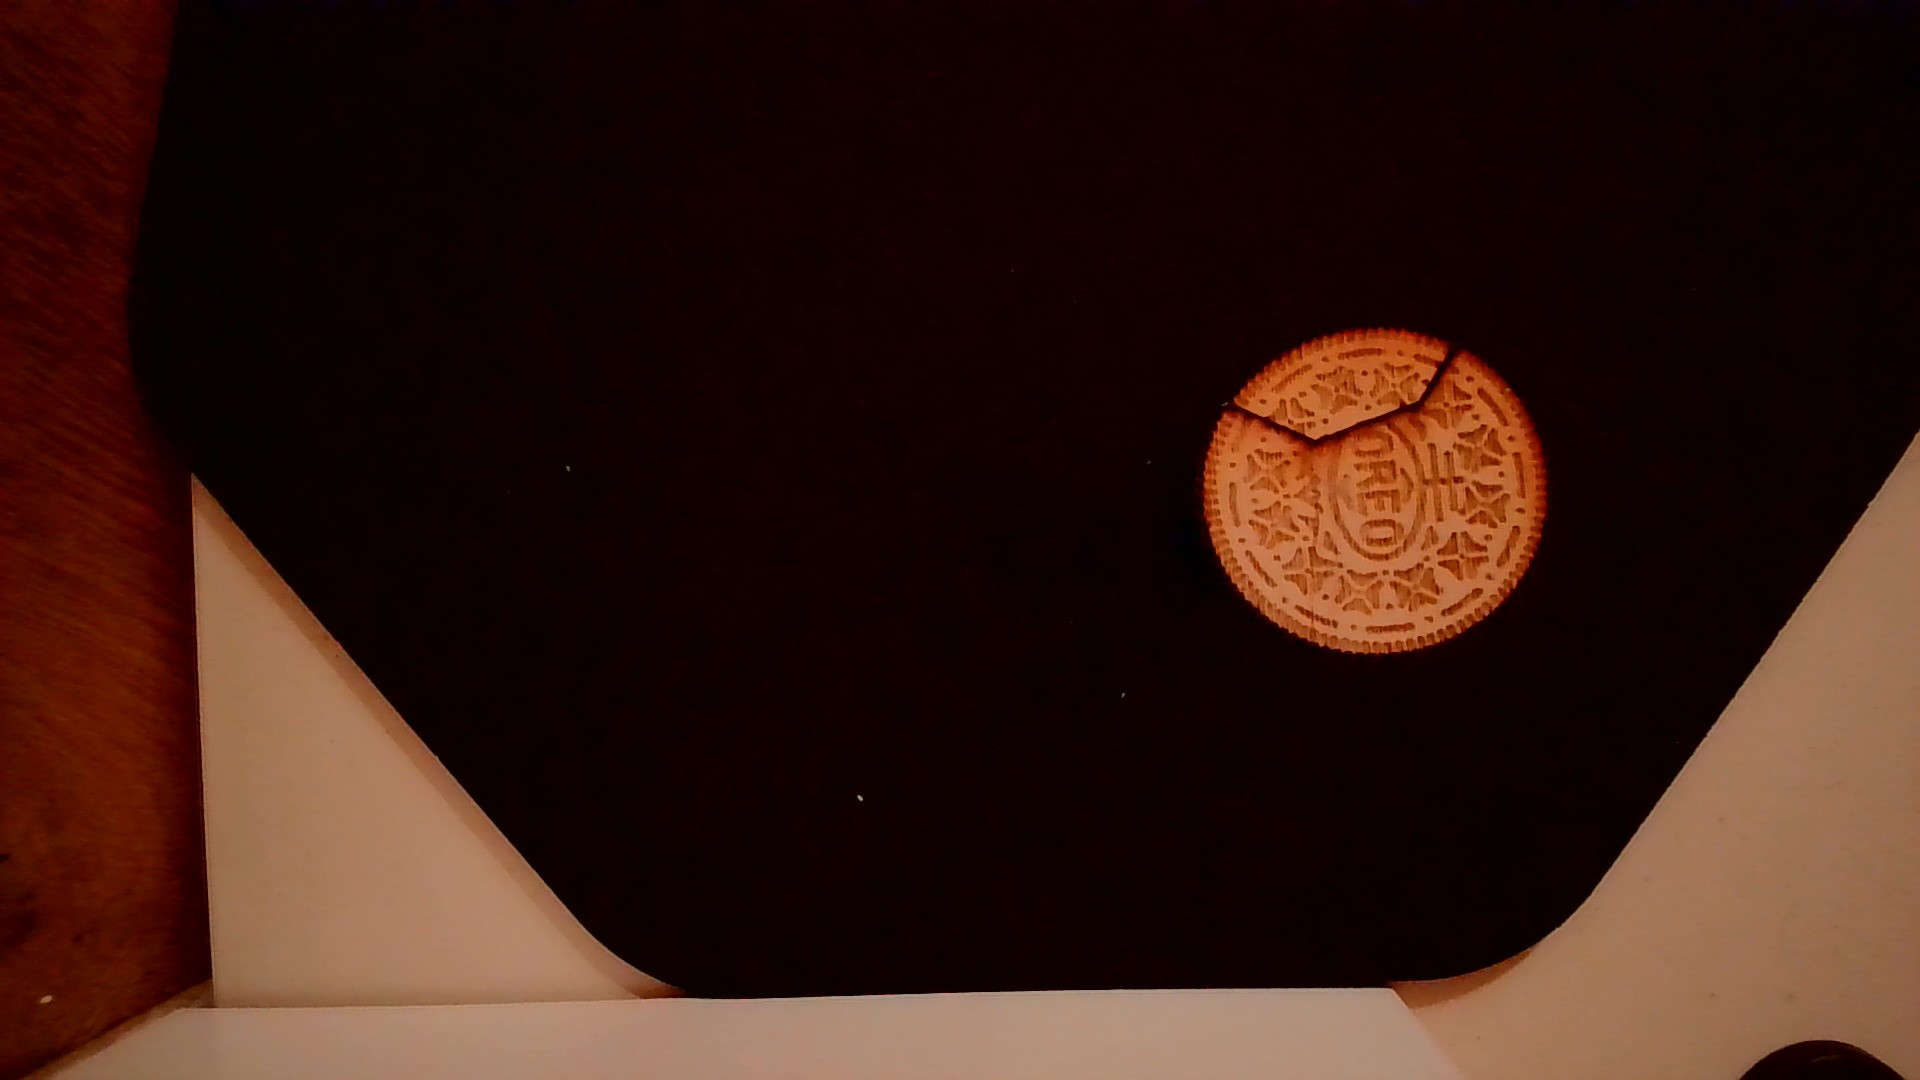Fissure: (1216, 324, 1474, 458)
Oréo: (1187, 319, 1553, 659)
